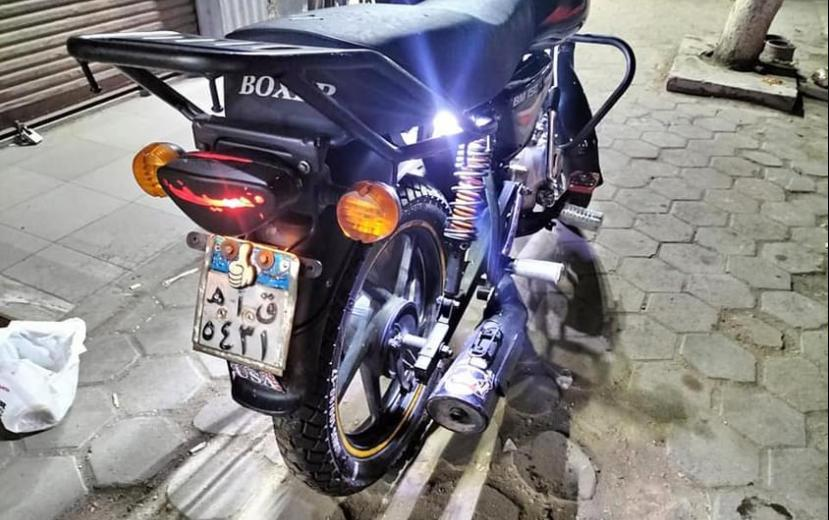License Plate: (190, 232, 301, 372)
